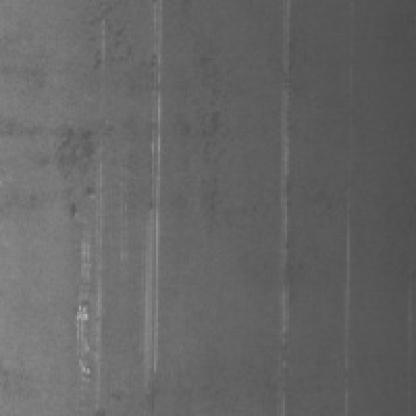scratches: (269, 15, 292, 384), (68, 187, 108, 397), (135, 75, 162, 381)
